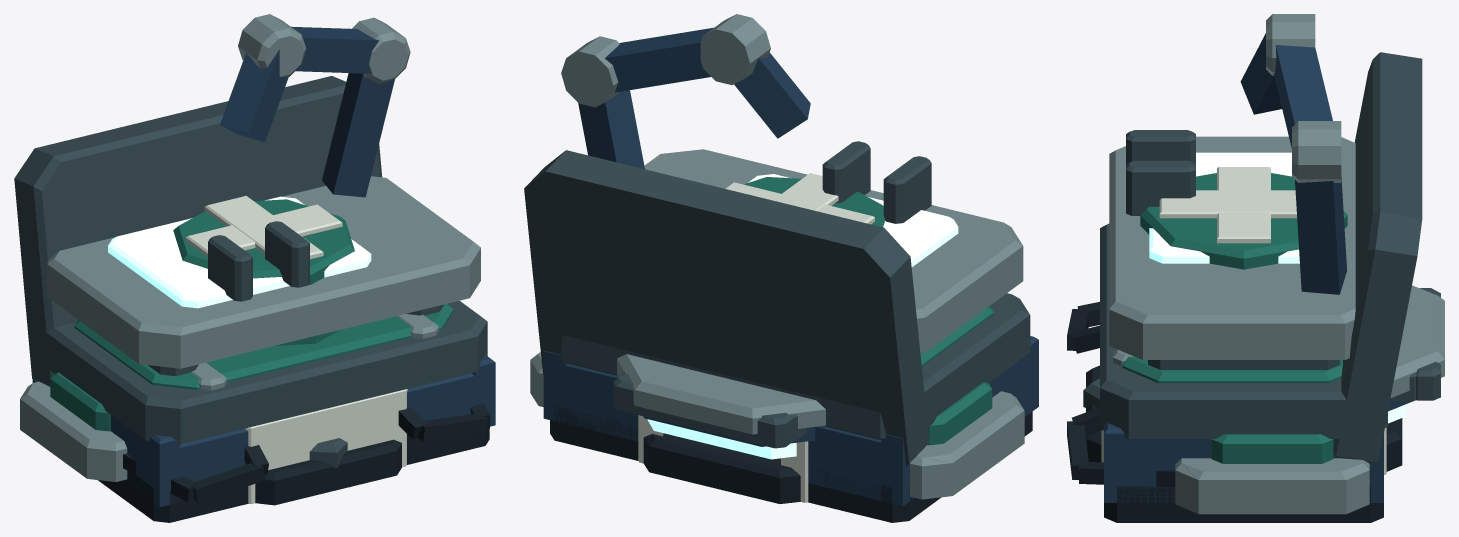
Rendered from props.glb.
The picture shows the model from 3 angles, left to right: view 1: azimuth 30°, elevation 25°; view 2: azimuth 150°, elevation 25°; view 3: azimuth 270°, elevation 25°; orthographic projection. The views are drawn at different scales.
Visible parts, largest first — view 1: upgrade, cache-closed, cache-open, resuscitator, health, medkit, armor; view 2: cache-open, upgrade, cache-closed, armor, resuscitator, medkit, health, upgrade__lod_low; view 3: upgrade, cache-closed, cache-open, resuscitator, health, armor, medkit.
Boxes of the visible parts, bbox=[...] form: upgrade: bbox=[47, 14, 480, 376]; cache-closed: bbox=[32, 301, 495, 522]; cache-open: bbox=[14, 76, 483, 520]; resuscitator: bbox=[20, 372, 490, 504]; health: bbox=[173, 195, 354, 345]; medkit: bbox=[74, 304, 453, 389]; armor: bbox=[255, 438, 401, 505]; cache-open: bbox=[524, 150, 929, 465]; upgrade: bbox=[561, 14, 1023, 353]; cache-closed: bbox=[543, 293, 1038, 522]; armor: bbox=[617, 354, 825, 503]; resuscitator: bbox=[530, 352, 1024, 502]; medkit: bbox=[613, 307, 993, 448]; health: bbox=[725, 173, 885, 227]; upgrade__lod_low: bbox=[566, 33, 1013, 235]; upgrade: bbox=[1109, 14, 1355, 369]; cache-closed: bbox=[1100, 223, 1387, 522]; cache-open: bbox=[1333, 52, 1422, 463]; resuscitator: bbox=[1067, 302, 1386, 514]; health: bbox=[1140, 167, 1347, 269]; armor: bbox=[1083, 285, 1444, 471]; medkit: bbox=[1122, 288, 1440, 401].
Size of the model in its own units: 1.94 by 1.83 by 1.46.
Materials: 1 (1 with a texture image).
